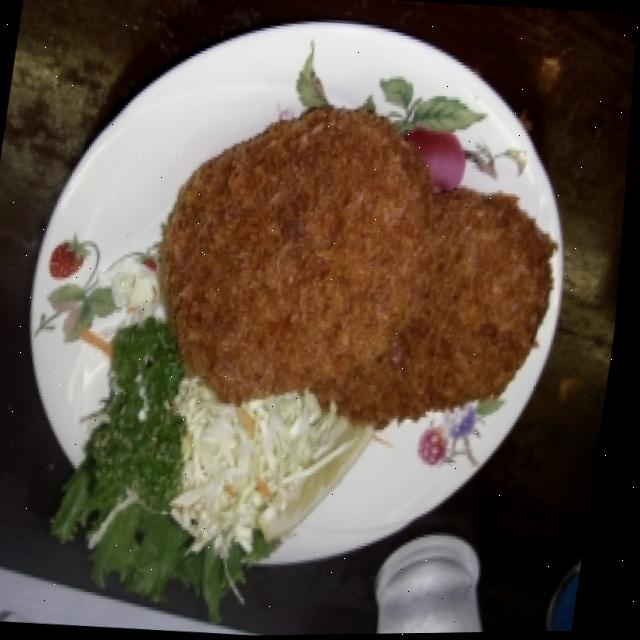炸货点心: (129, 105, 582, 464)
